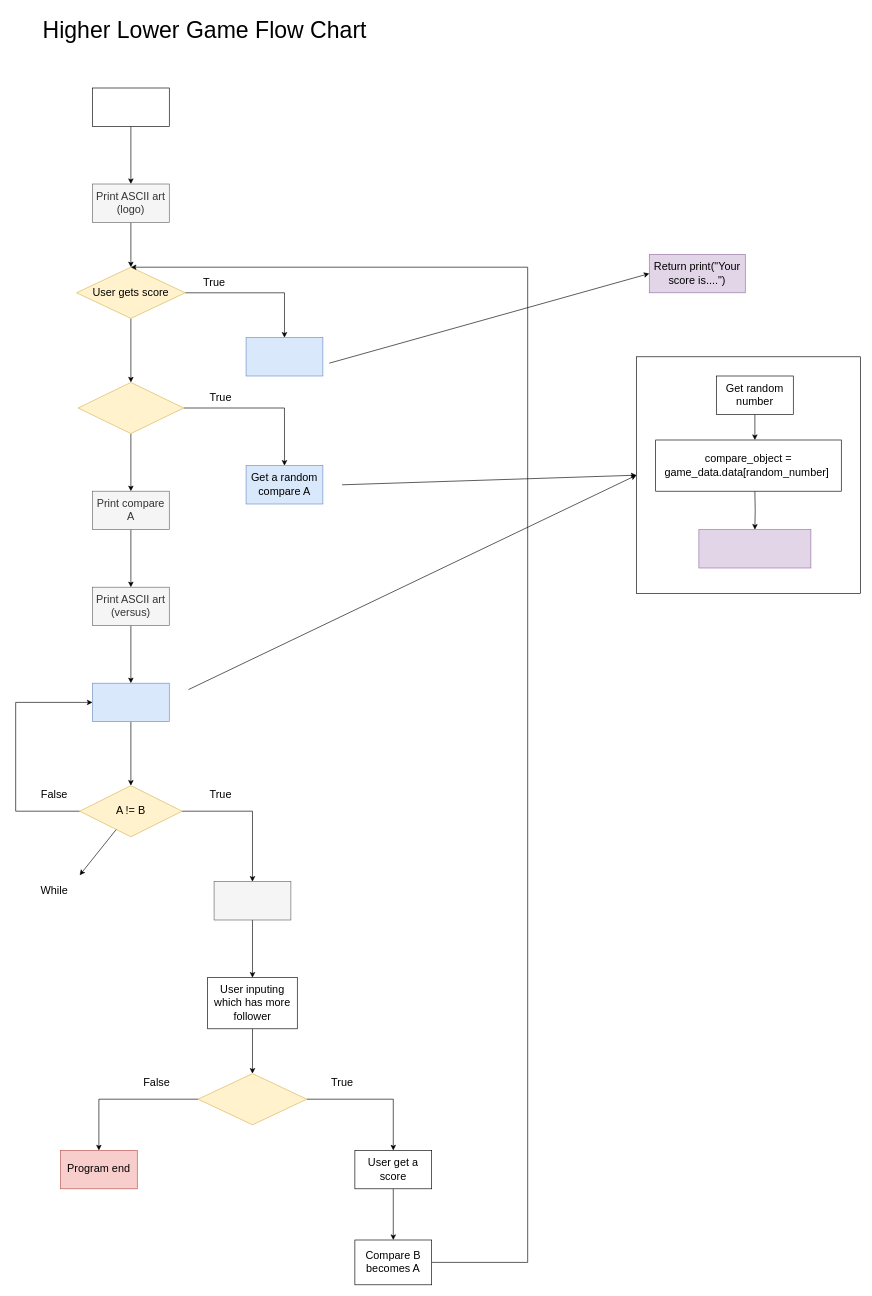
Image size: 872x1296. Some labels were removed from this diagram. Here are the shapes that lost their labels. From the top down, the box of each, then its label:
(92, 87, 169, 126): Start
(245, 337, 323, 376): show update score
(77, 382, 184, 434): user_score = 0
(698, 529, 811, 568): return compare_object (the object data)
(92, 683, 169, 722): Get a random compare B
(213, 881, 291, 920): Print compare B
(197, 1073, 307, 1125): User correct
